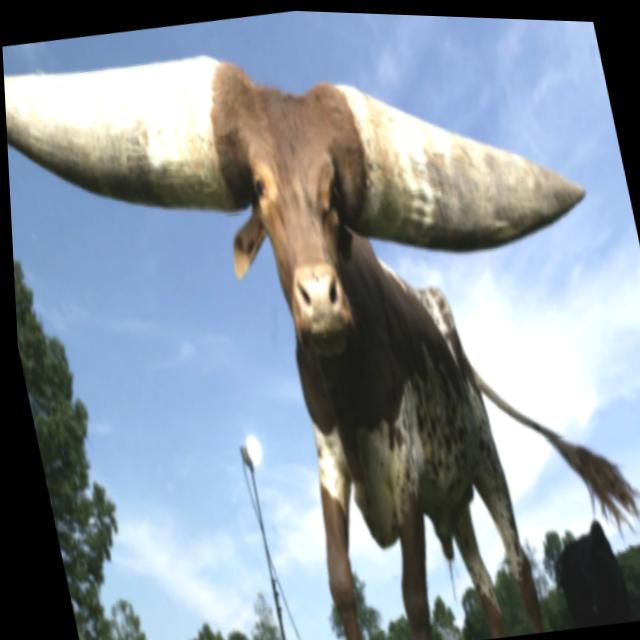cowFace: (0, 0, 624, 411)
